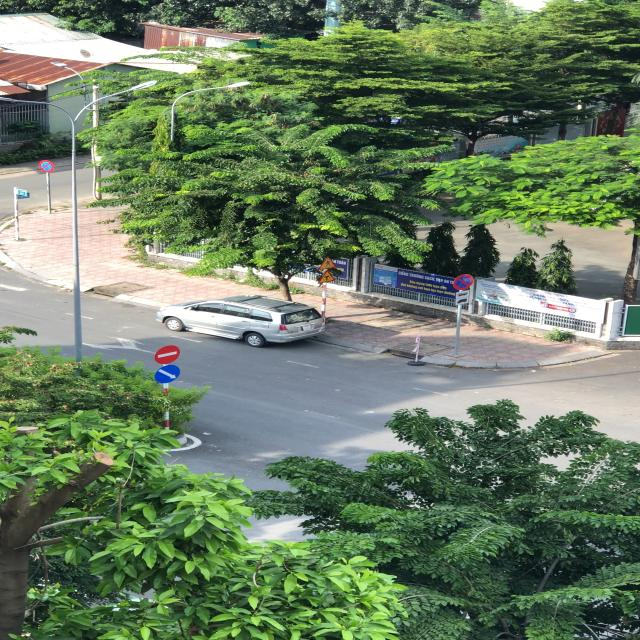Bien bao cam di nguoc chieu: (151, 344, 184, 365)
Bien bao cam dung xe va do xe: (453, 272, 478, 290)
Bien bao duong giao nhau: (318, 270, 341, 284)
Bien bao duong nguoi di bo cat ngang: (316, 257, 338, 269)
Bien bao huong phai di vong chuong ngai vat: (154, 366, 184, 384)
